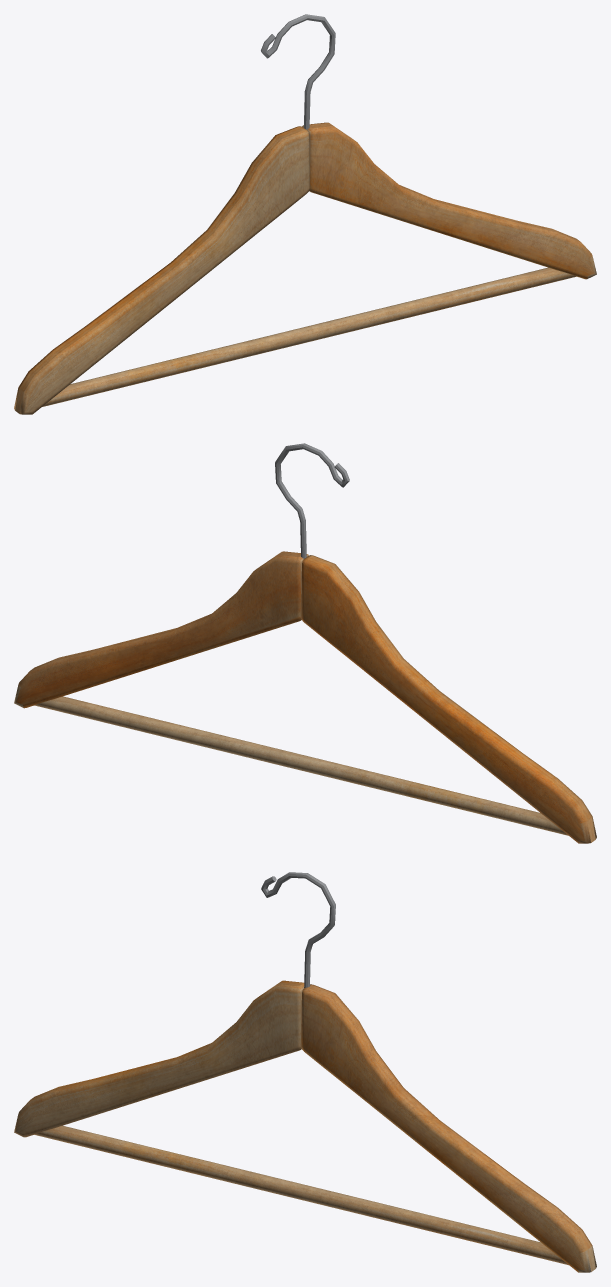
File: wood_clothes_hanger.glb
3 views of the same model, one above another, from view 1: azimuth 30°, elevation 25°; view 2: azimuth 150°, elevation 25°; view 3: azimuth 330°, elevation 25° (orthographic).
Parts seen in each view (by area): view 1: Object_2; view 2: Object_2; view 3: Object_2.
Boxes of the visible parts, bbox=[...] form: Object_2: bbox=[14, 14, 596, 414]; Object_2: bbox=[14, 443, 596, 843]; Object_2: bbox=[14, 872, 596, 1272].
Bounding box in the file's own units: 77.97 × 42.72 × 2.32.
1 material, 1 textured.
